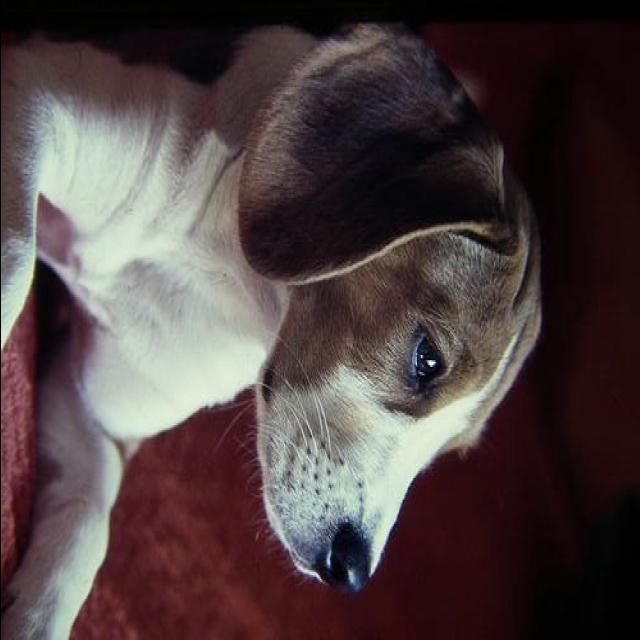beagle: (3, 3, 549, 635)
